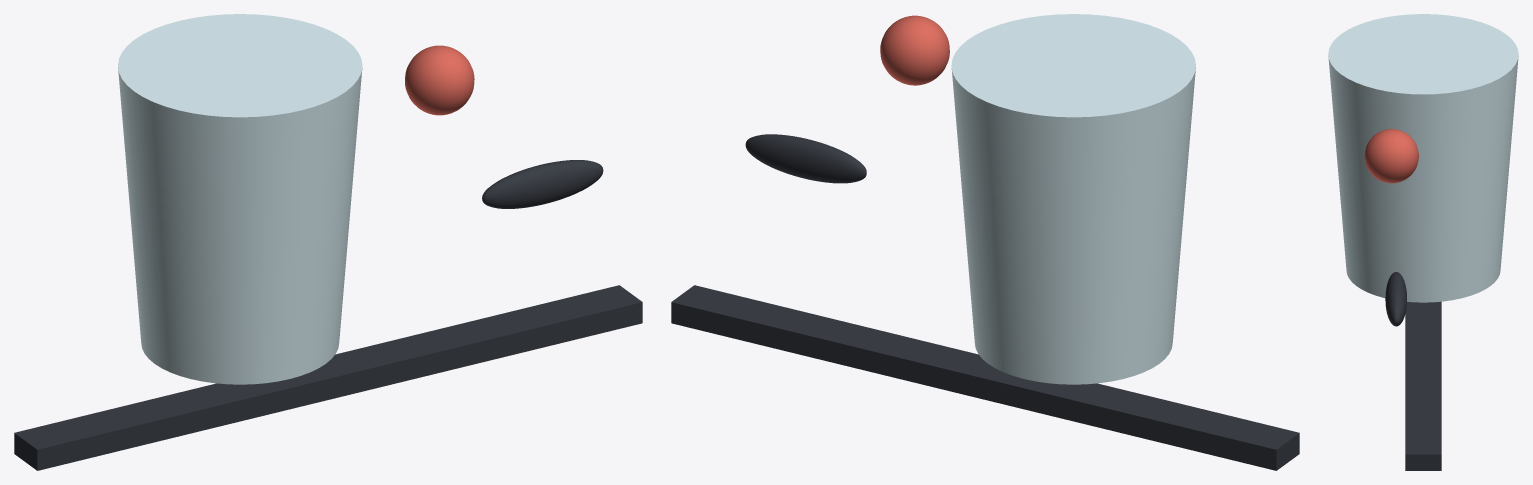
File: chem-acids-acid.glb
3 renders of one model, left to right at view 1: azimuth 30°, elevation 25°; view 2: azimuth 150°, elevation 25°; view 3: azimuth 270°, elevation 25°, orthographic. The views are drawn at different scales.
Visible parts, largest first — view 1: acid-sample-red-solution-glass, acid-base-lab-bench, reactive-metal-surface, h-plus-ion-activity; view 2: acid-sample-red-solution-glass, acid-base-lab-bench, reactive-metal-surface, h-plus-ion-activity; view 3: acid-sample-red-solution-glass, acid-base-lab-bench, h-plus-ion-activity, reactive-metal-surface.
Part boxes in pixels (box(x1,y1,x2,y2)): acid-sample-red-solution-glass: box(118, 14, 362, 384); acid-base-lab-bench: box(14, 285, 642, 470); reactive-metal-surface: box(482, 160, 603, 208); h-plus-ion-activity: box(405, 45, 474, 115); acid-sample-red-solution-glass: box(951, 14, 1195, 384); acid-base-lab-bench: box(671, 285, 1299, 470); reactive-metal-surface: box(745, 134, 866, 183); h-plus-ion-activity: box(880, 15, 949, 85); acid-sample-red-solution-glass: box(1328, 14, 1518, 302); acid-base-lab-bench: box(1405, 301, 1441, 470); h-plus-ion-activity: box(1364, 129, 1418, 183); reactive-metal-surface: box(1385, 272, 1406, 326).
Size of what is drawn, in the model's own units: 2.4 by 1.3 by 0.84.
